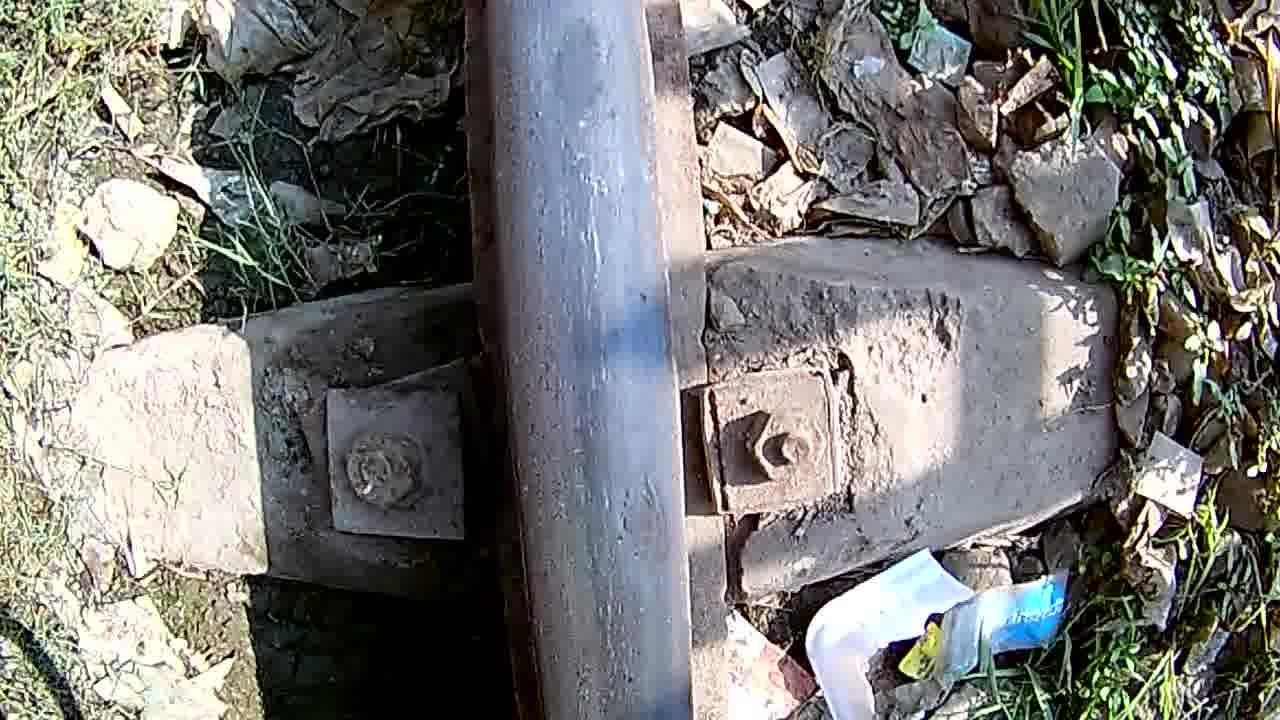crack: (491, 0, 645, 230)
